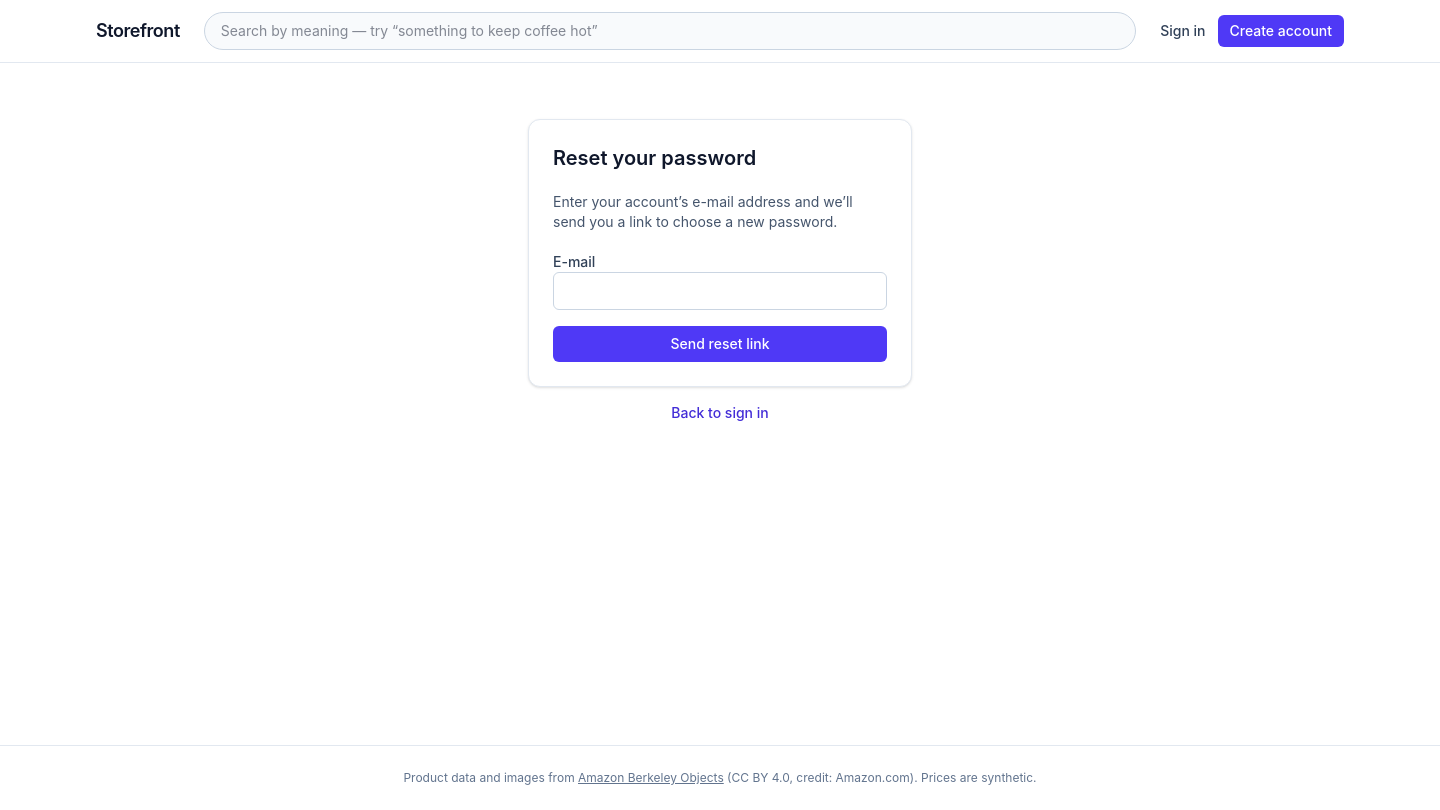
forgot and reset password › sends a reset link without revealing whether the account exists
The width and height of the screenshot is (1440, 810).
Expected: the header is shown, top-left (0, 0), bottom-right (1439, 63)
Type "bob@gmail.com" into the field labelled "E-mail" at (720, 291), box top-left (553, 272), bottom-right (887, 310)
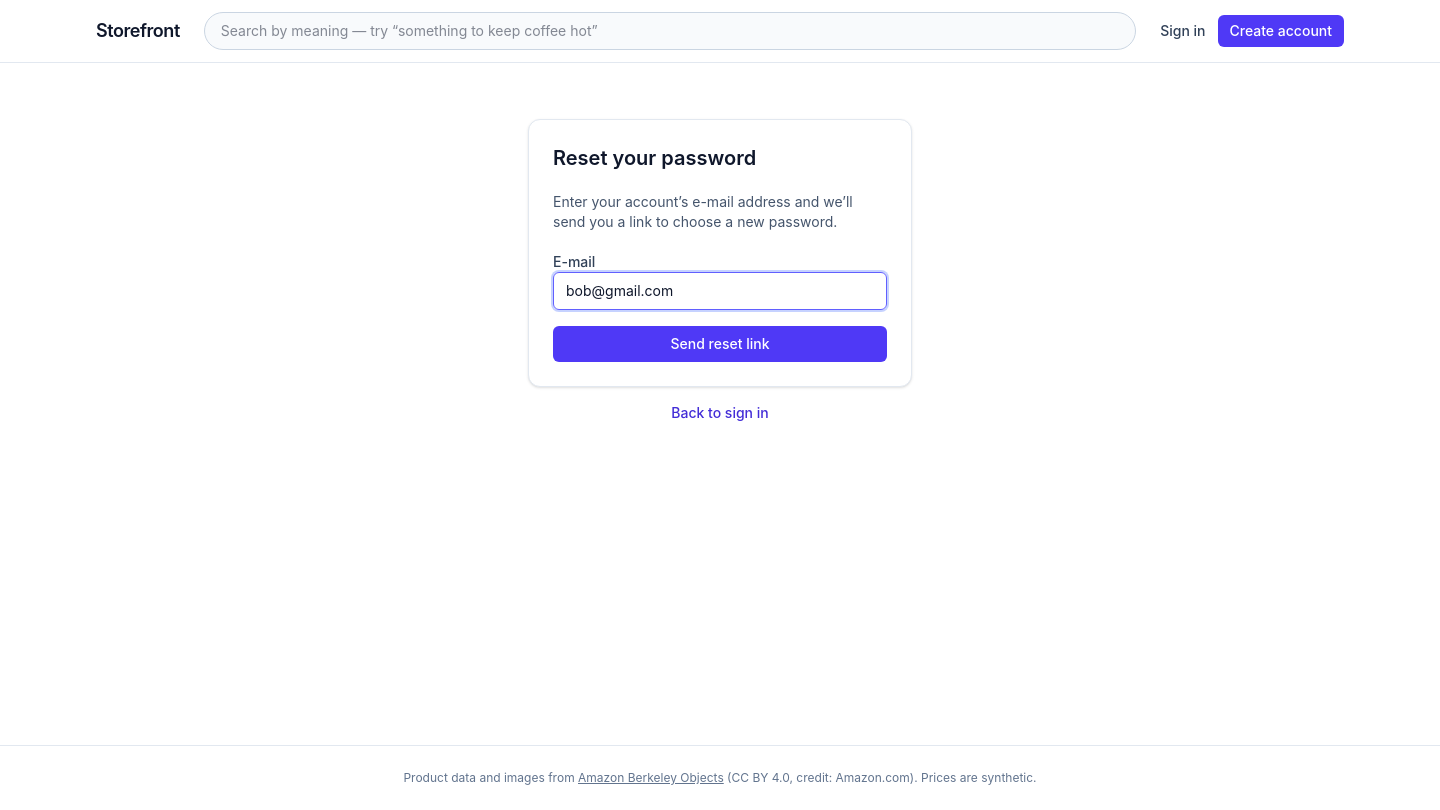
Click the button "Send reset link" at (720, 344), box top-left (553, 326), bottom-right (887, 362)
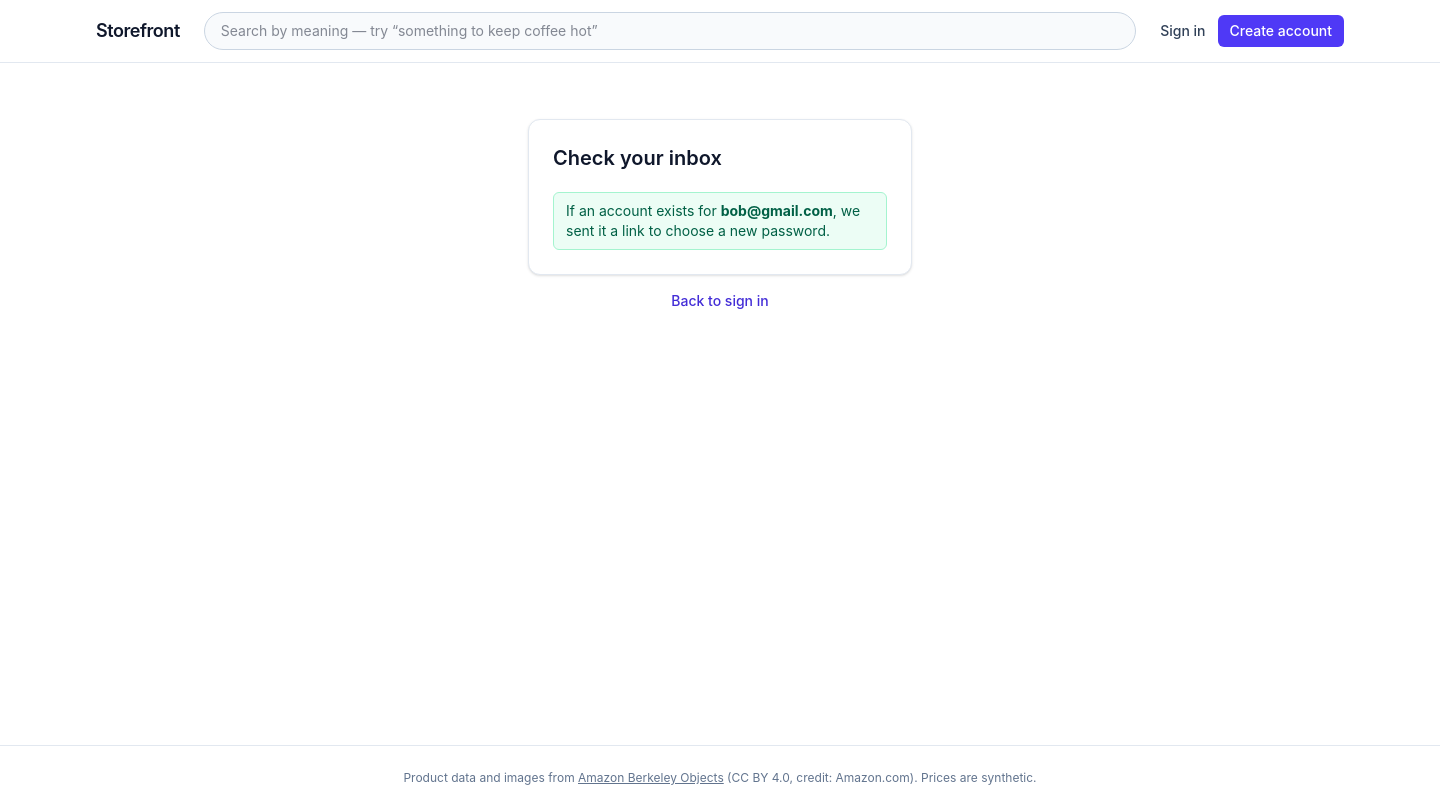
Now the message shows "If an account exists for bob@gmail.com", box top-left (553, 192), bottom-right (887, 250)
